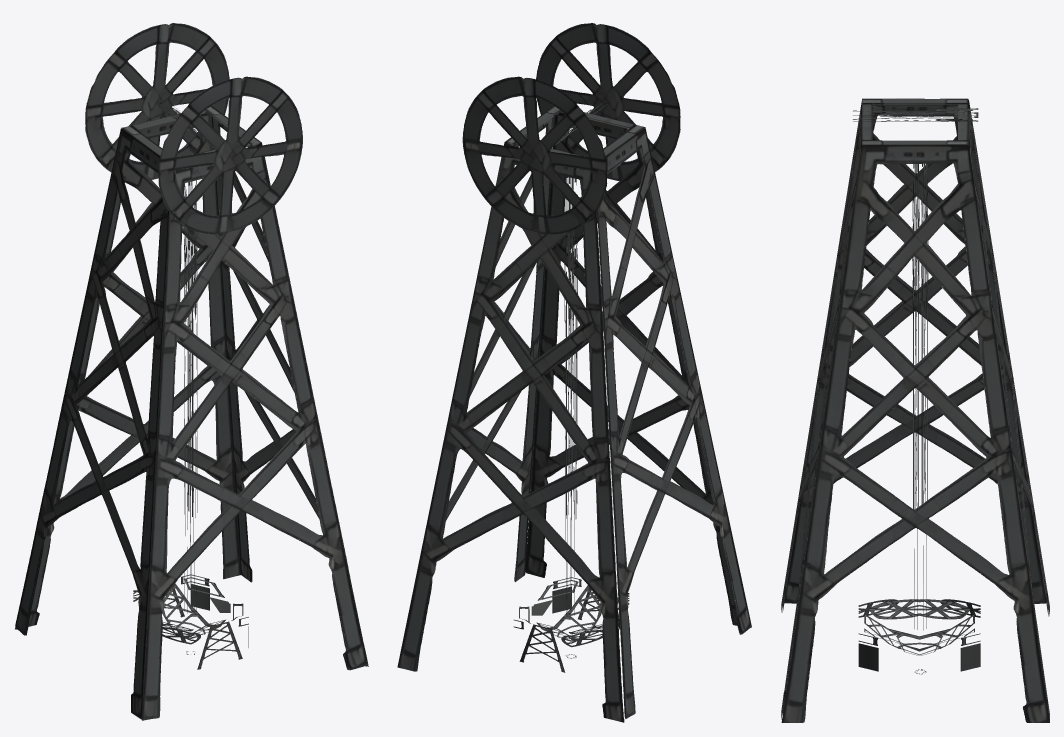
The model's file is oilrig.gltf.
3 renders of one model, left to right at view 1: azimuth 30°, elevation 25°; view 2: azimuth 150°, elevation 25°; view 3: azimuth 270°, elevation 25°, orthographic. The views are drawn at different scales.
Visible parts, largest first — view 1: oilrig_atomic0; view 2: oilrig_atomic0; view 3: oilrig_atomic0.
Part boxes in pixels (x1,y1,x2,y2): oilrig_atomic0: (15,23,368,720); oilrig_atomic0: (397,23,751,722); oilrig_atomic0: (781,98,1049,722).
Bounding box in the file's own units: 31.25 × 79.11 × 30.27.
Materials: 1 (1 with a texture image).
